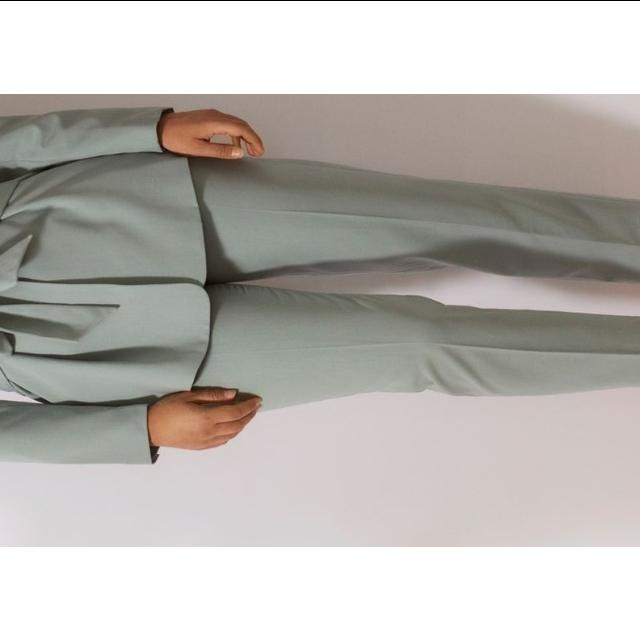polyester: (0, 108, 640, 452)
